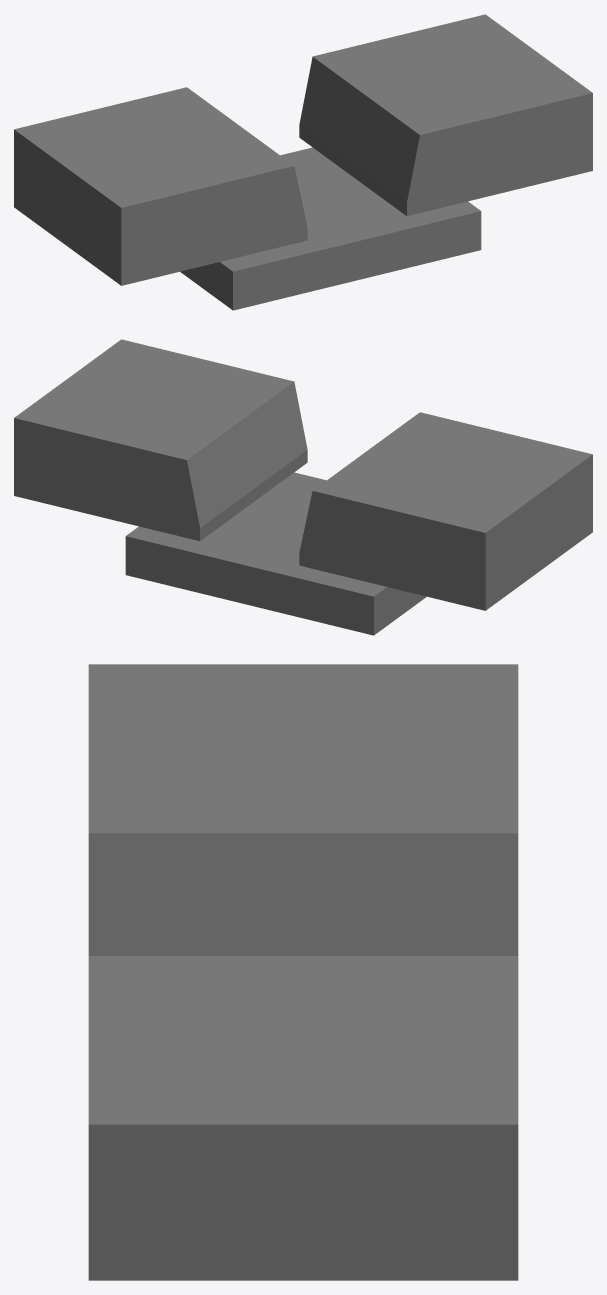
Rendered from С19_Кромки.glb.
3 renders of one model, top to bottom at view 1: azimuth 30°, elevation 25°; view 2: azimuth 150°, elevation 25°; view 3: azimuth 270°, elevation 25°, orthographic. The views are drawn at different scales.
Parts seen in each view (by area): view 1: node_id3; view 2: node_id3; view 3: node_id3.
Part boxes in pixels (x1,y1,x2,y2): node_id3: (14, 14, 592, 310); node_id3: (14, 339, 592, 635); node_id3: (88, 664, 518, 1280).
Size of the model in its own units: 0.512 by 0.1347 by 0.2021.
1 material, 1 textured.
